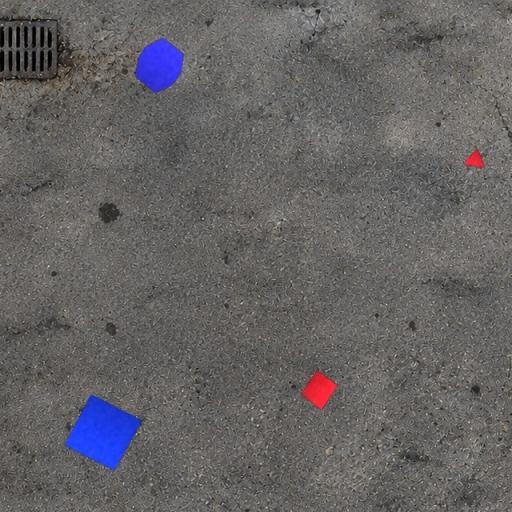BLUE_SQUARE: (63, 394, 143, 471)
RED_SQUARE: (300, 370, 338, 411)
